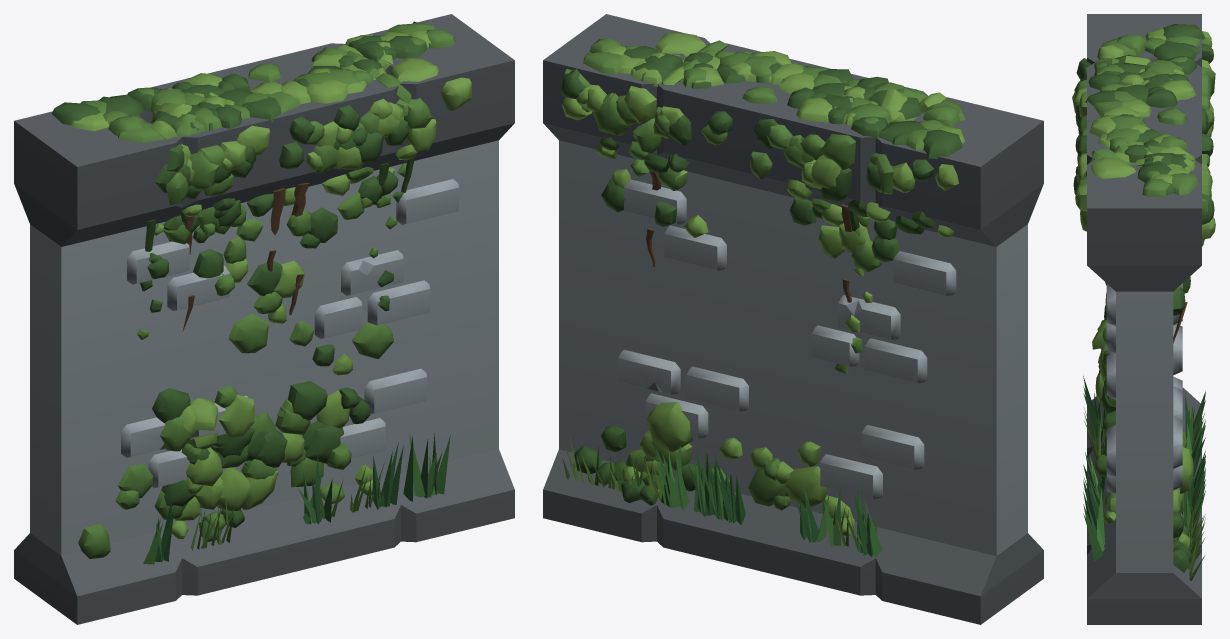
The model's file is wall_overgrown_B.glb.
3 renders of one model, left to right at view 1: azimuth 30°, elevation 25°; view 2: azimuth 150°, elevation 25°; view 3: azimuth 270°, elevation 25°, orthographic. The views are drawn at different scales.
Parts seen in each view (by area): view 1: Item; view 2: Item; view 3: Item.
Boxes of the visible parts, left/top/right/bottom form: Item: left=14, top=14, right=514, bottom=624; Item: left=543, top=14, right=1043, bottom=624; Item: left=1072, top=14, right=1215, bottom=624.
Bounding box in the file's own units: 4 × 4.14 × 1.25.
Materials: 3 (3 with a texture image).
